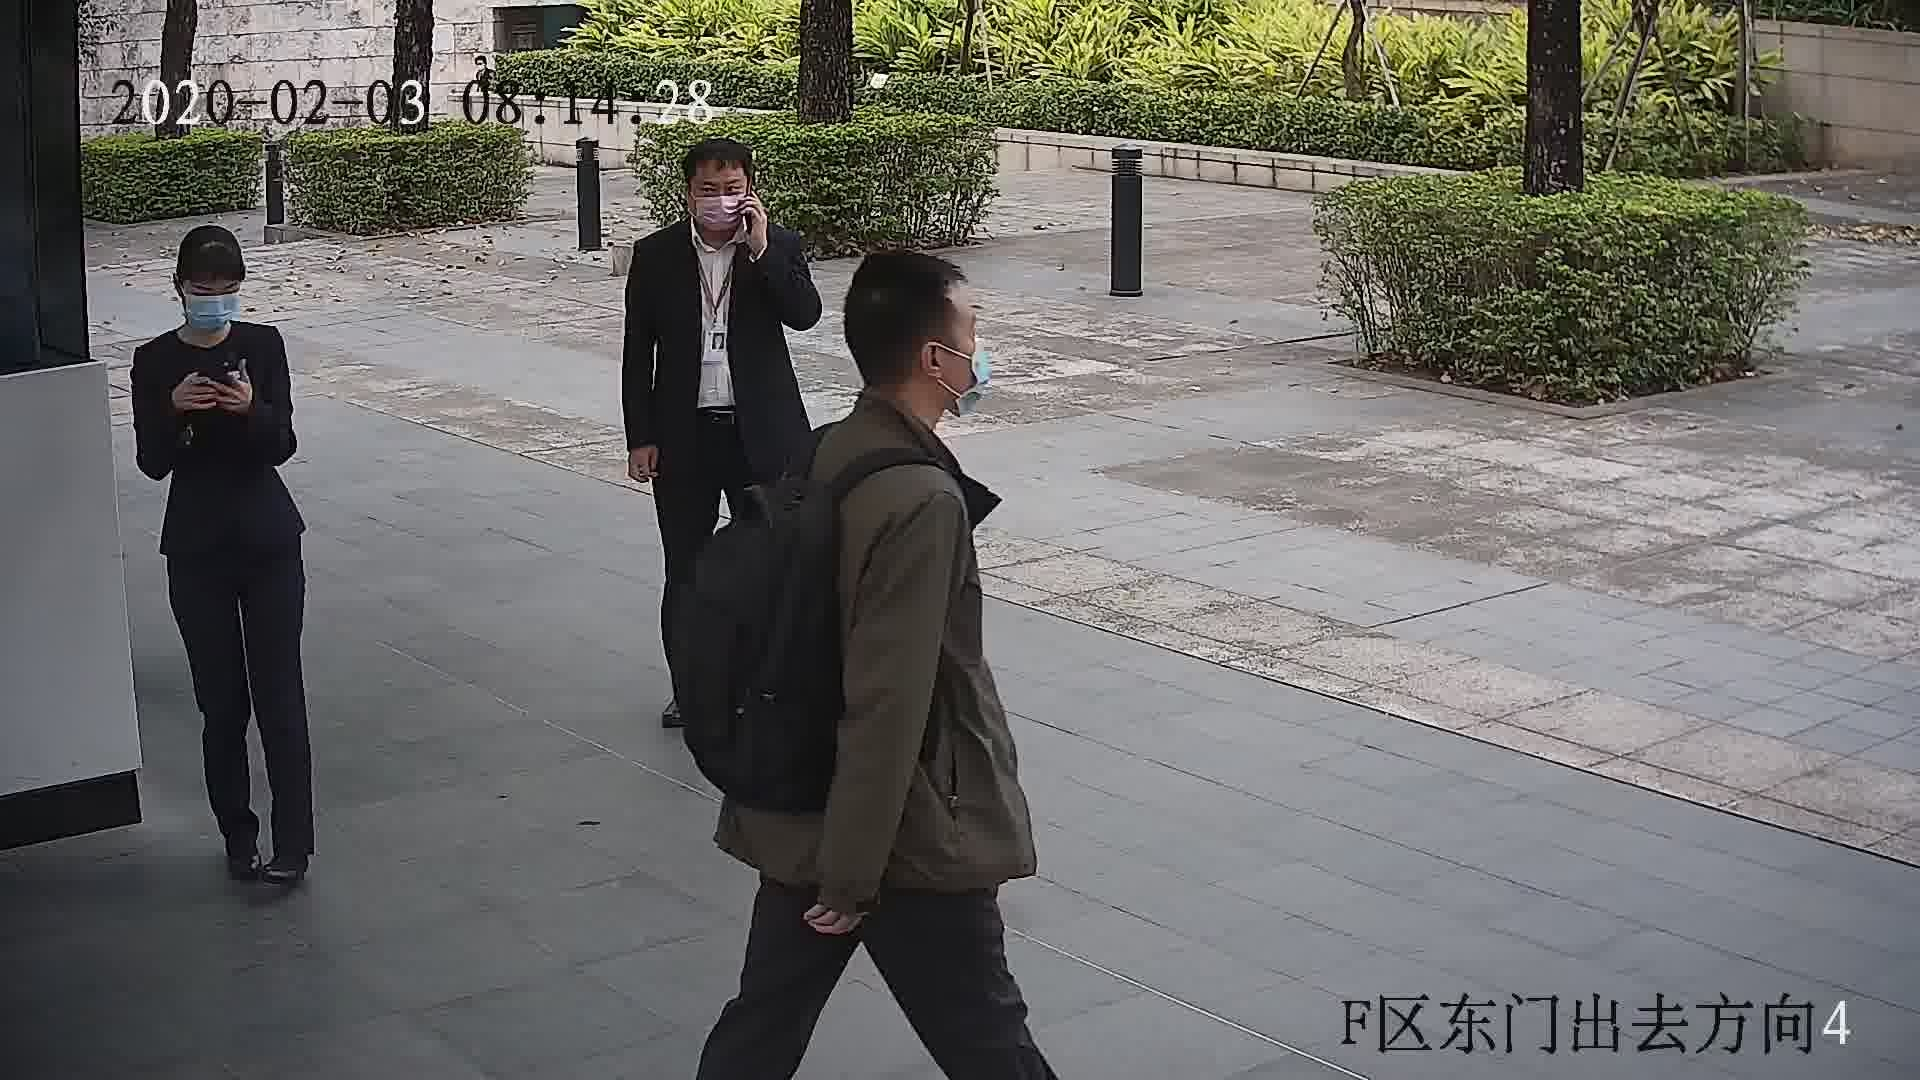face: (879, 283, 997, 418), (680, 163, 753, 237), (174, 268, 250, 335)
mask: (947, 340, 987, 418), (177, 288, 242, 333), (690, 188, 747, 232)
person: (808, 245, 987, 537), (631, 137, 803, 285), (141, 229, 286, 377)
